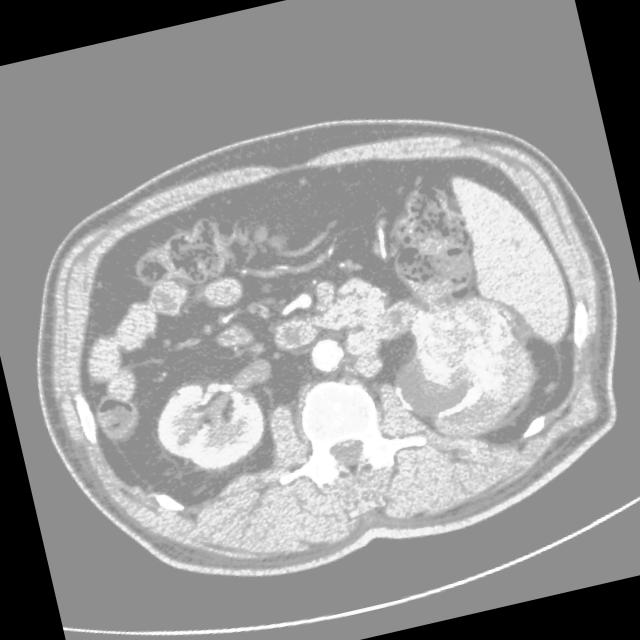TUMOR: (0, 195, 585, 530)
